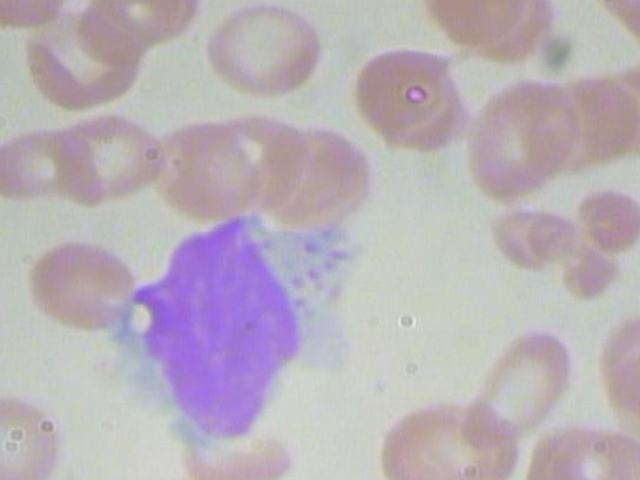RBC: (348, 37, 481, 168), (453, 317, 585, 448), (18, 0, 153, 119), (458, 74, 565, 200), (202, 0, 329, 96), (16, 235, 144, 330), (372, 397, 500, 480), (53, 114, 165, 205), (0, 120, 98, 204), (0, 388, 74, 480), (0, 257, 4, 390)
WBC: (94, 211, 374, 449)
